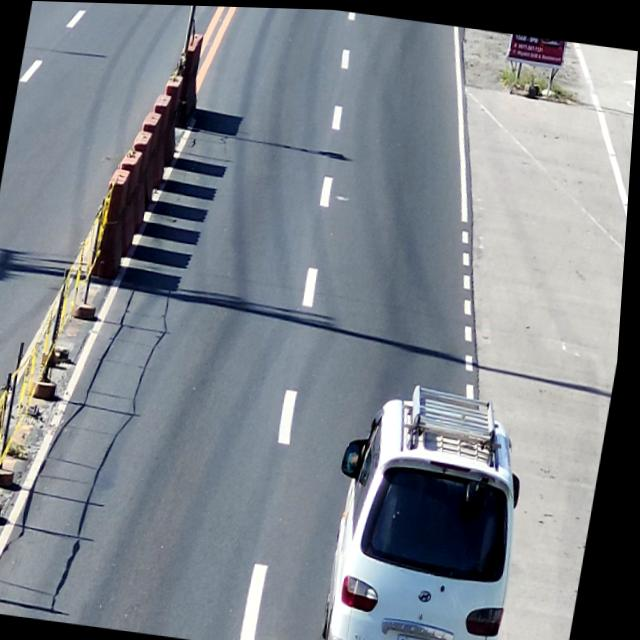Car: (322, 379, 548, 640)
License-Plate: (400, 629, 446, 640)
